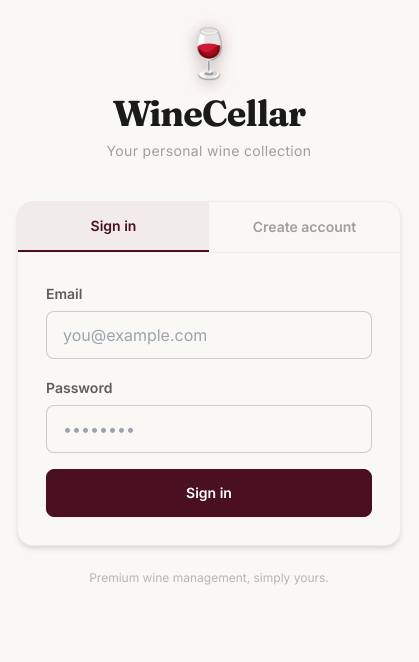
Test case: LoginPage › shows error message on login failure
This screenshot has width=419, height=662.
Type "bad@example.com" into the field with test id "email-input" at coordinates (209, 335), box [46,311,372,359]
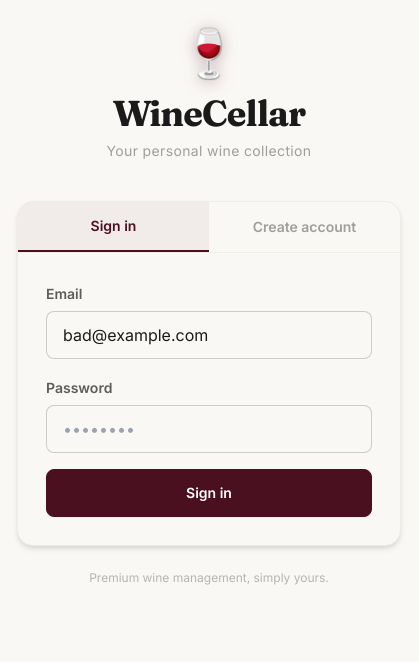
Type "wrongpass" into the password field with test id "password-input" at coordinates (209, 429), box [46,405,372,453]
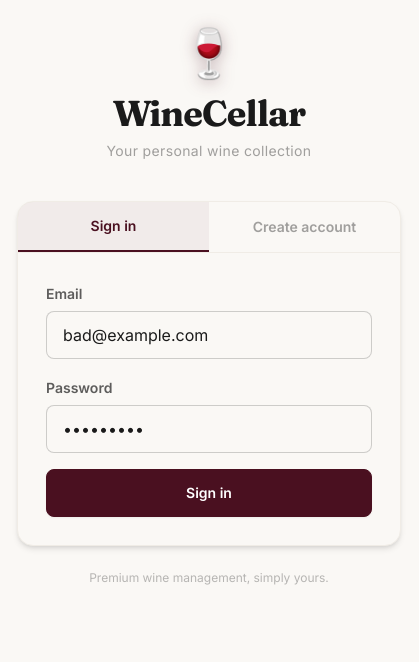
Click the button with test id "login-btn" at coordinates (209, 493), box [46,469,372,517]
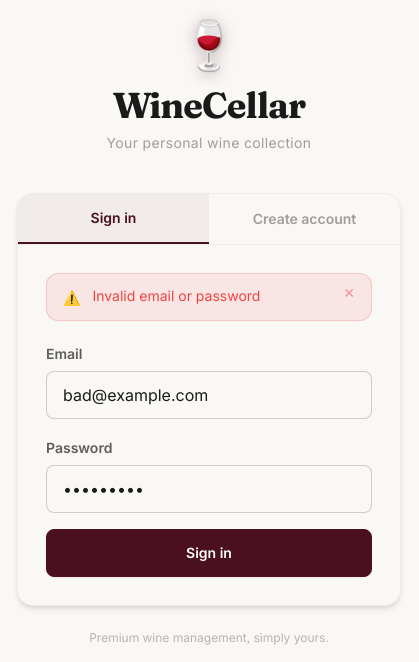
Expected: the text "Invalid email or password" is shown, [92,287,260,304]
